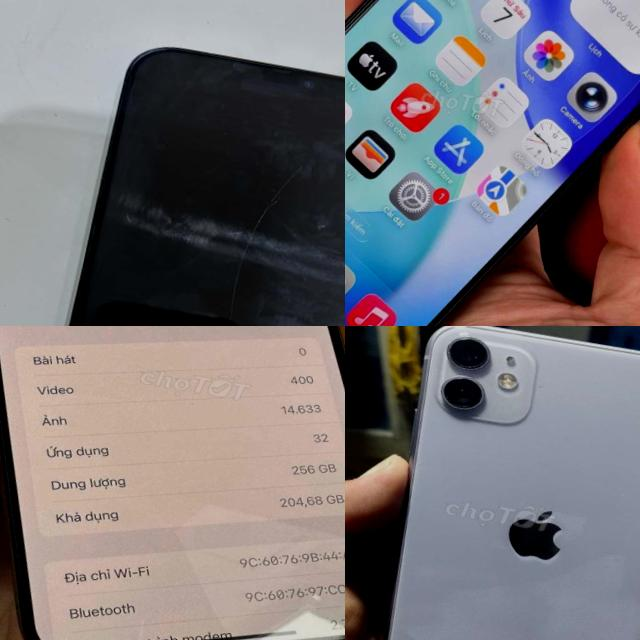gen_11: (349, 326, 640, 640)
gen_12_13: (14, 21, 345, 326)
gen_15: (0, 326, 345, 640)
gen_17: (345, 0, 640, 326)
scratch: (219, 257, 246, 326), (276, 163, 302, 196), (248, 192, 276, 222), (238, 226, 258, 250)
